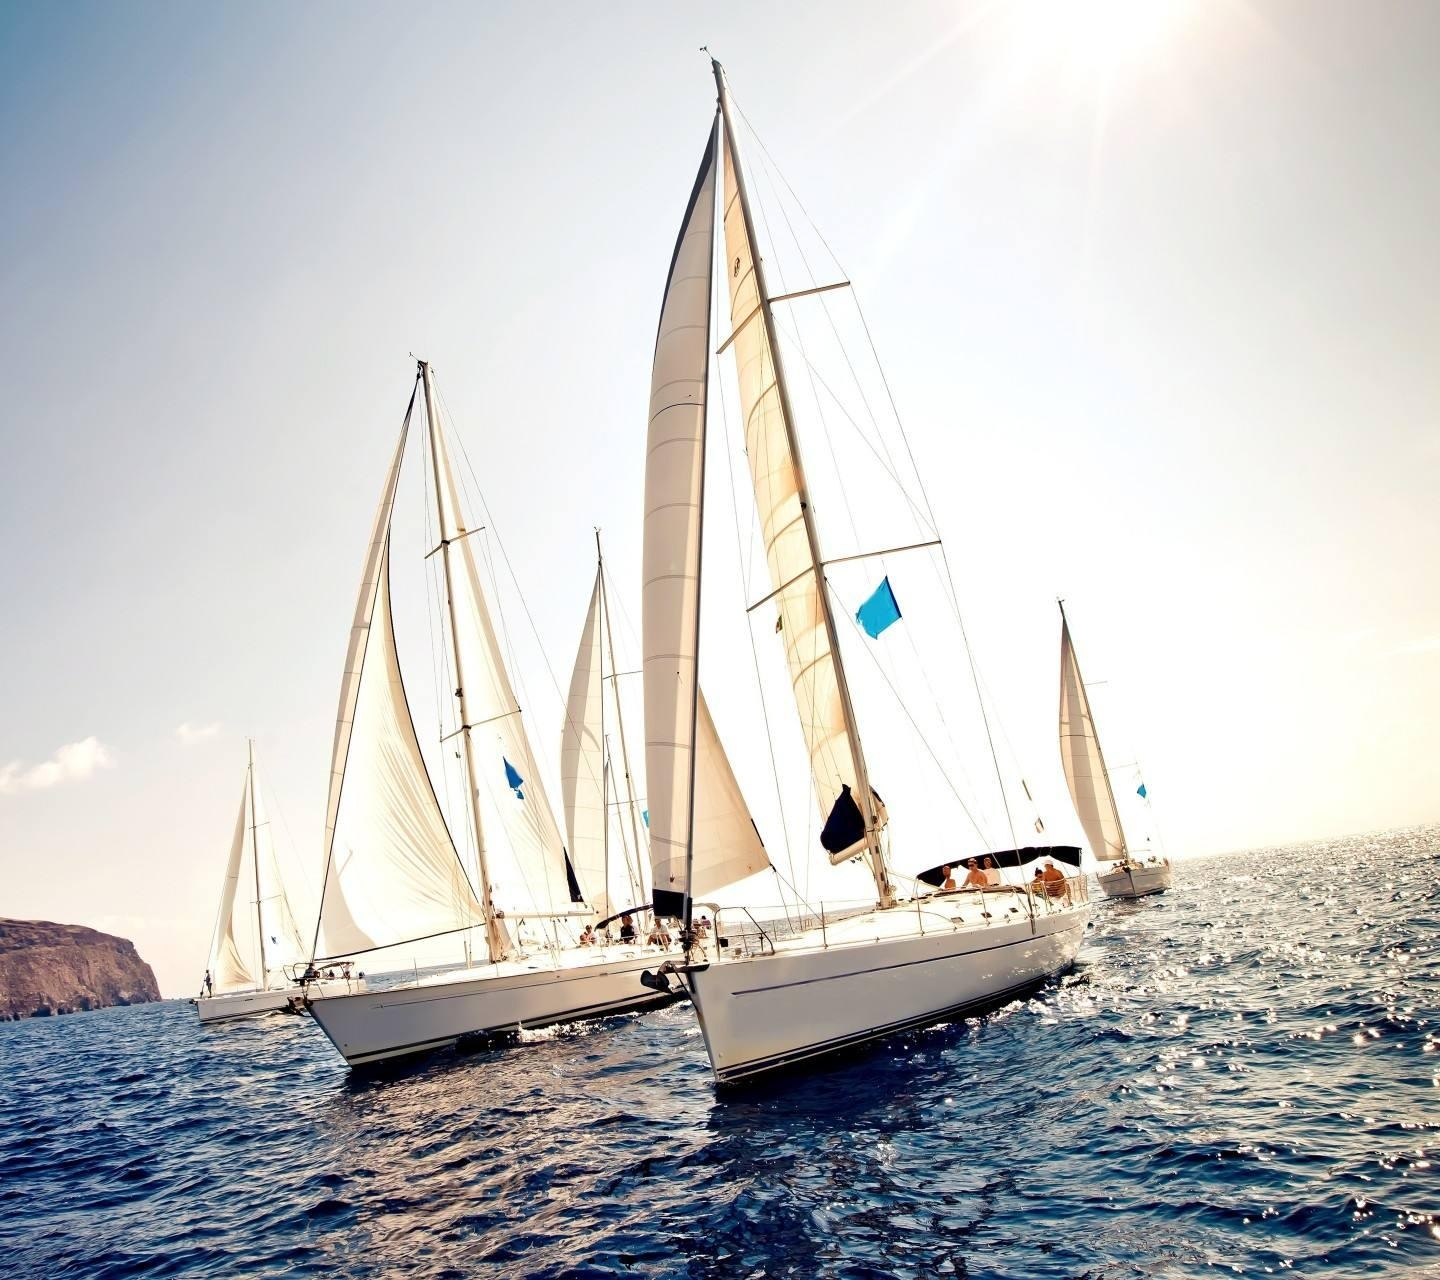fanchuan: (642, 33, 1084, 1087), (296, 341, 659, 1076), (188, 734, 321, 1025)
